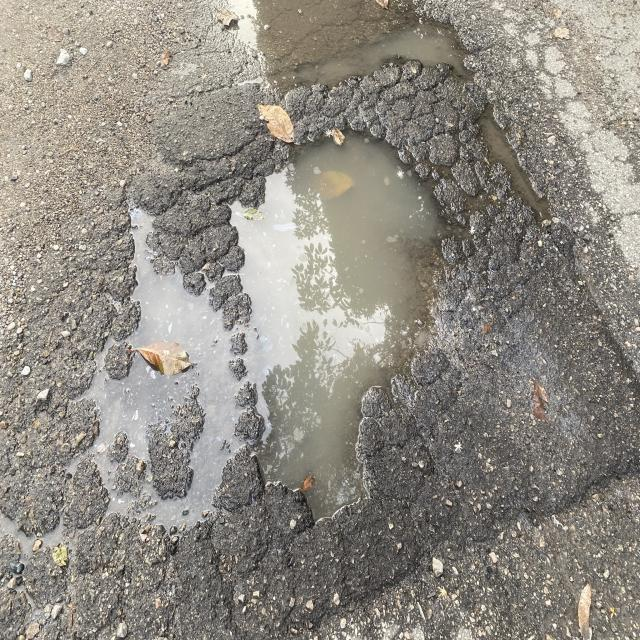pothole: (99, 48, 618, 603)
